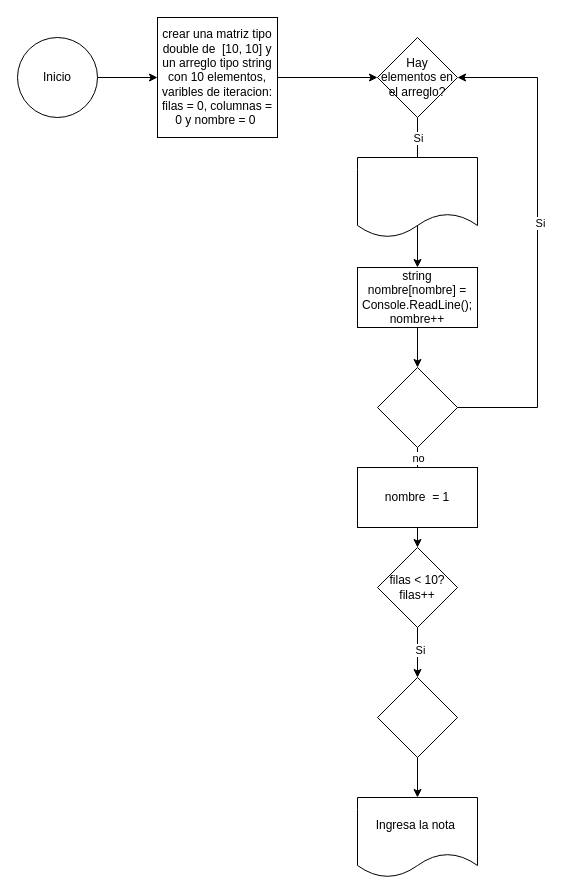
Image size: 563x895. Some labels were removed from this diagram. The centre of each missing label's shape, as x and y in pixels:
"columnas < 10? columnas++" goes at point (417, 717).
"Hay mas elementos en el arreglo?" goes at point (417, 407).
"Ingresa el nombre del estudiante (nombre+1)" goes at point (417, 197).
